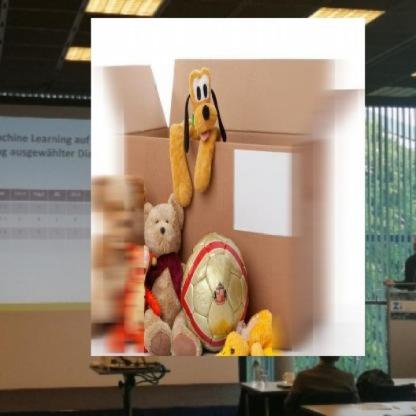box: (87, 13, 370, 362)
